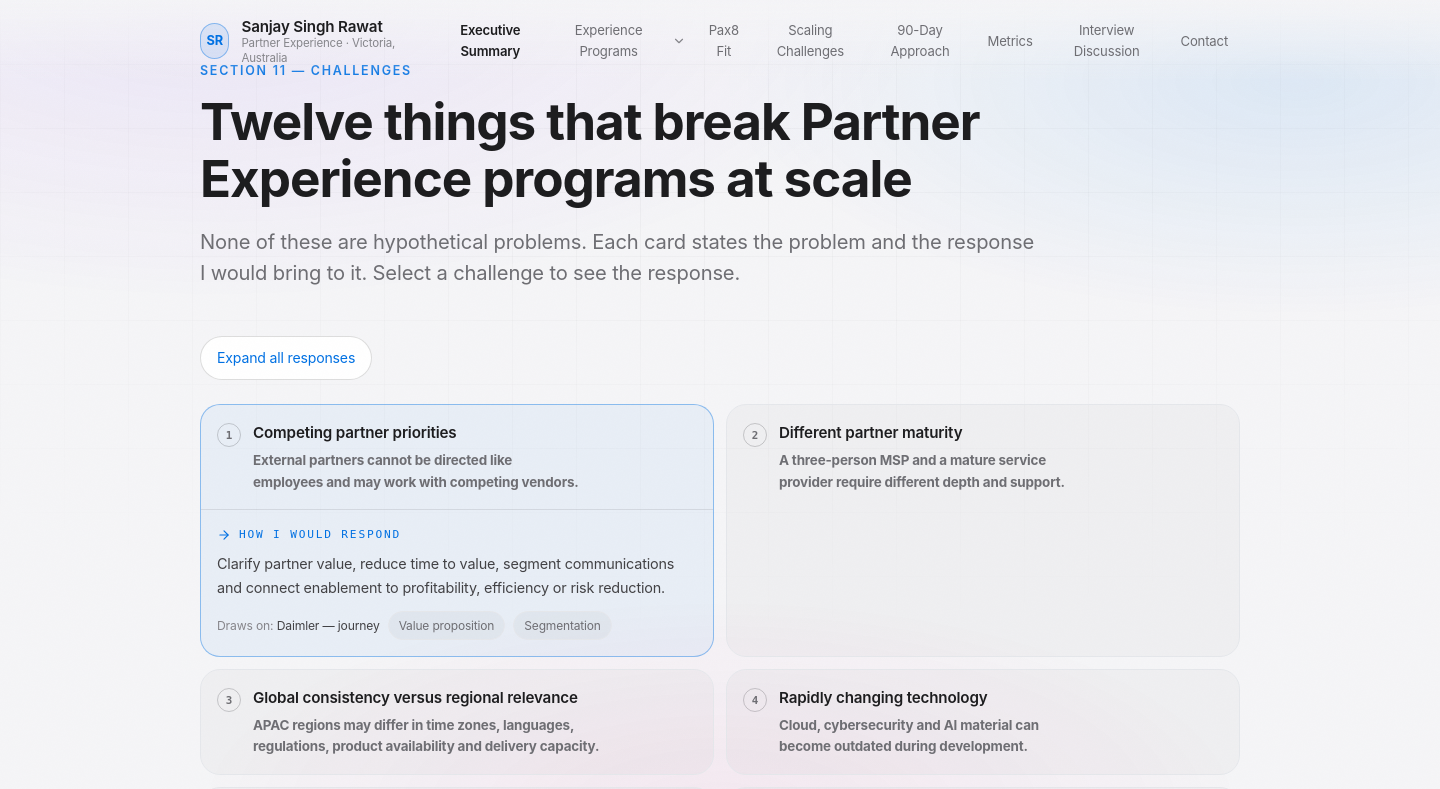
Scenario: scaling challenges › renders all twelve challenges with expandable responses
The width and height of the screenshot is (1440, 789).
(page scrolled)
Check: the button "Competing partner priorities" is shown, box [201,405,713,509]
Check: the button "Global consistency versus regional relevance" is shown, box [201,670,713,774]
Click the button "Different partner maturity": point(983, 457) [727,405,1239,509]
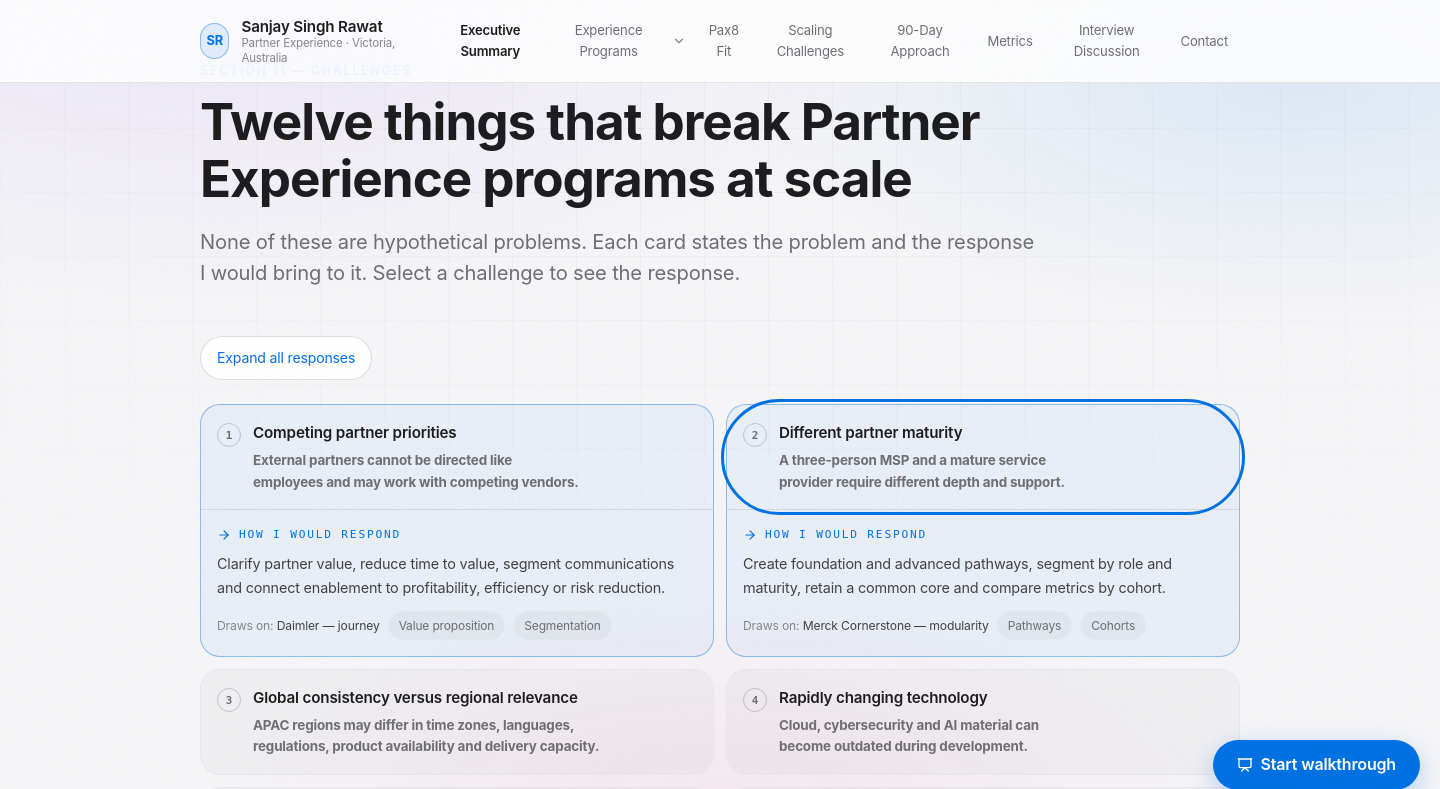
Check: the button "Different partner maturity" is expanded, box [727,405,1239,509]
Check: the text "Create foundation and advanced pathways, segment by role and maturity, retain a common core and compare metrics by cohor" is shown, box [743,555,1172,596]
